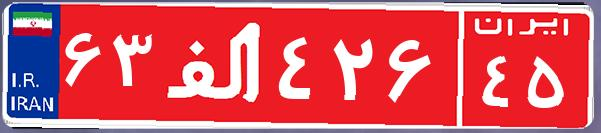2: (330, 28, 385, 110)
3: (110, 28, 158, 105)
4: (273, 28, 330, 110), (475, 38, 525, 113)
5: (525, 38, 570, 115)
6: (385, 28, 445, 110), (57, 26, 110, 107)
الف: (158, 15, 273, 115)
